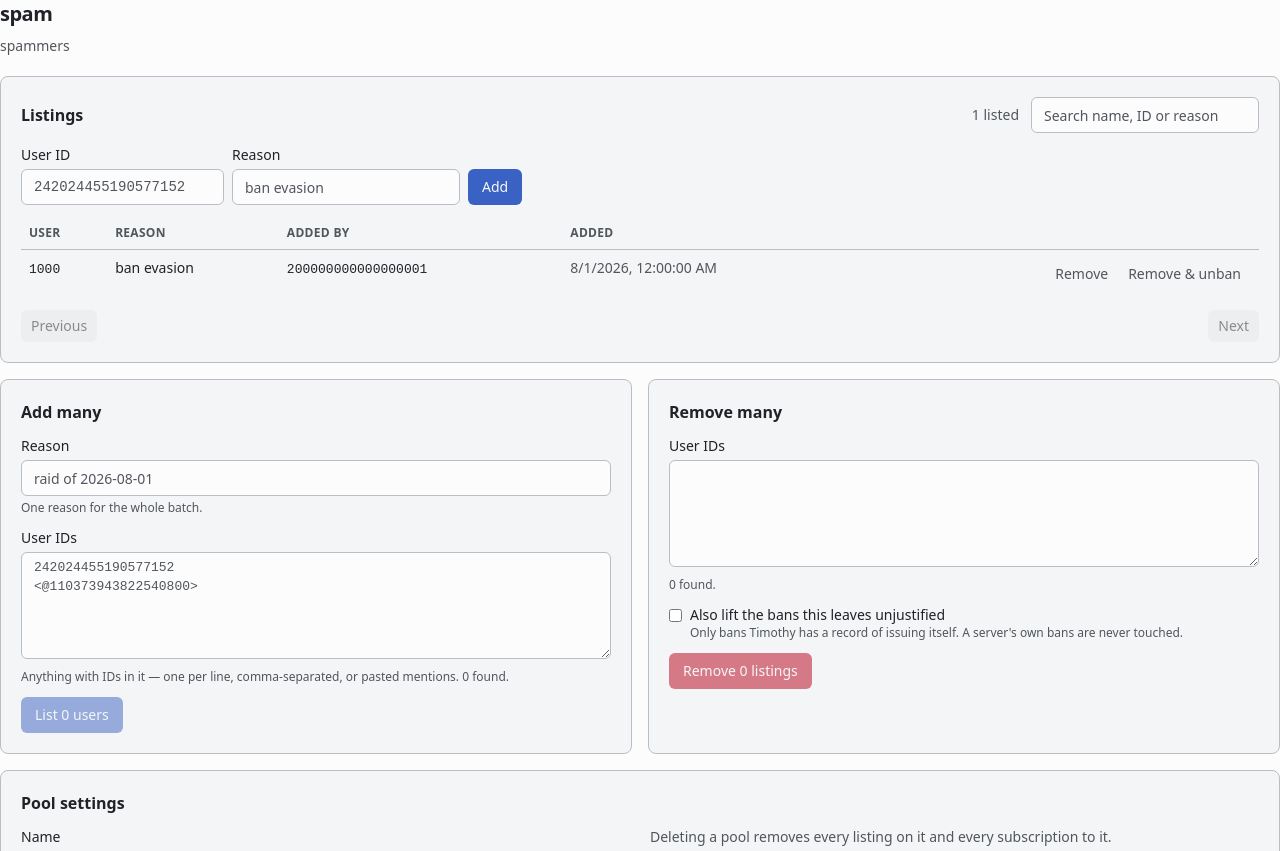
Test: removing a listing › spells out that reverting reaches servers this screen is not showing
Expected: the text "1000" is shown, 29,262 -> 60,277
Click the button "Remove & unban". click: (1185,274)
box: 1118,258 -> 1251,290
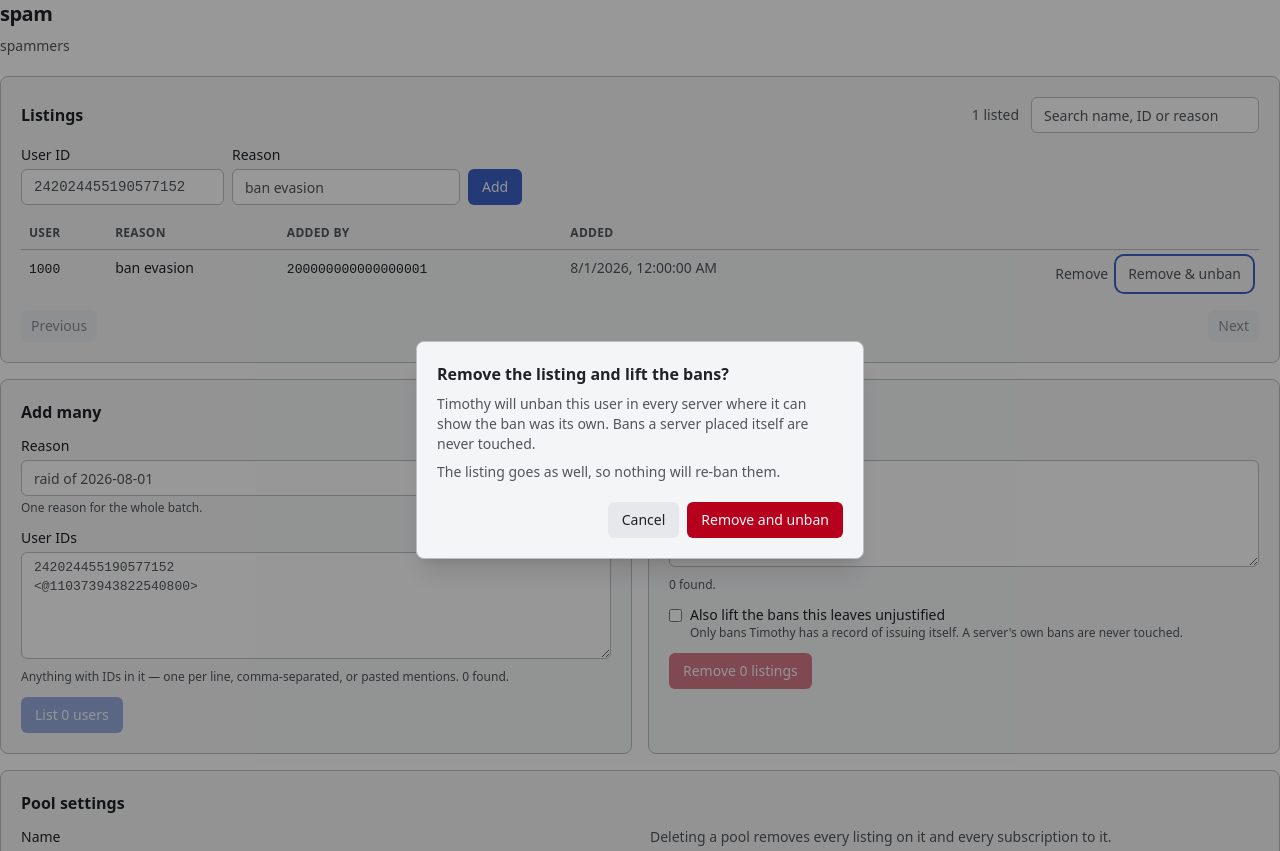
Now the dialog shows "unban this user in every server", box 437,394 -> 808,453
Now the dialog shows "Bans a server placed itself are never touched", box 437,394 -> 808,453
